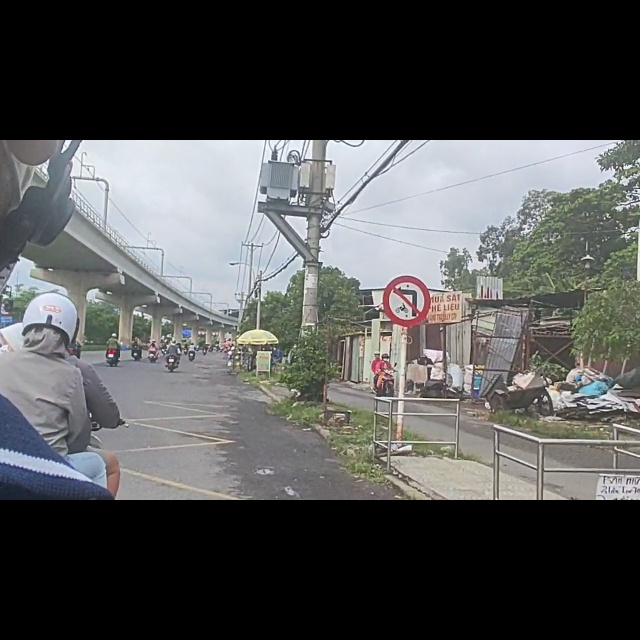bien_cam: (381, 237, 433, 334)
